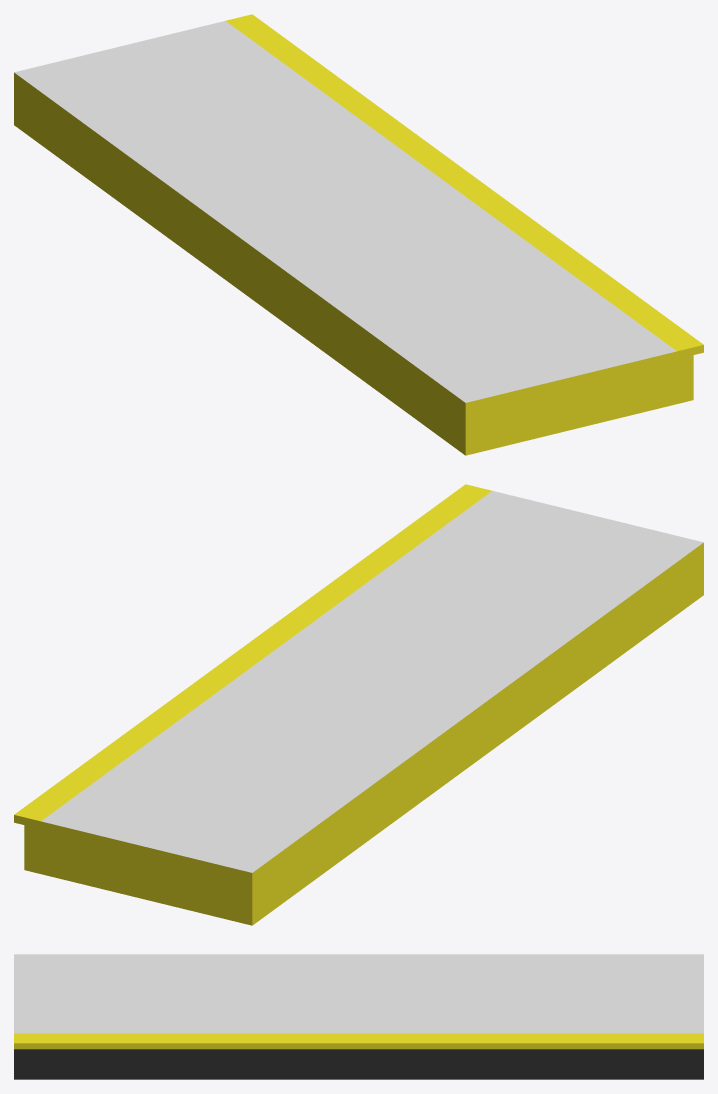
Rendered from Plataforma.fbx.
The picture shows the model from 3 angles, top to bottom: view 1: azimuth 30°, elevation 25°; view 2: azimuth 150°, elevation 25°; view 3: azimuth 270°, elevation 25°; orthographic projection. The views are drawn at different scales.
Parts seen in each view (by area): view 1: Cube.028; view 2: Cube.028; view 3: Cube.028.
Boxes of the visible parts, x1,y1,x2,y2 form: Cube.028: (14,14,703,455); Cube.028: (14,484,703,925); Cube.028: (14,954,703,1079).
Bounding box in the file's own units: 1443 × 305 × 4735.
